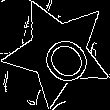O_NW: (25, 19, 91, 86)
